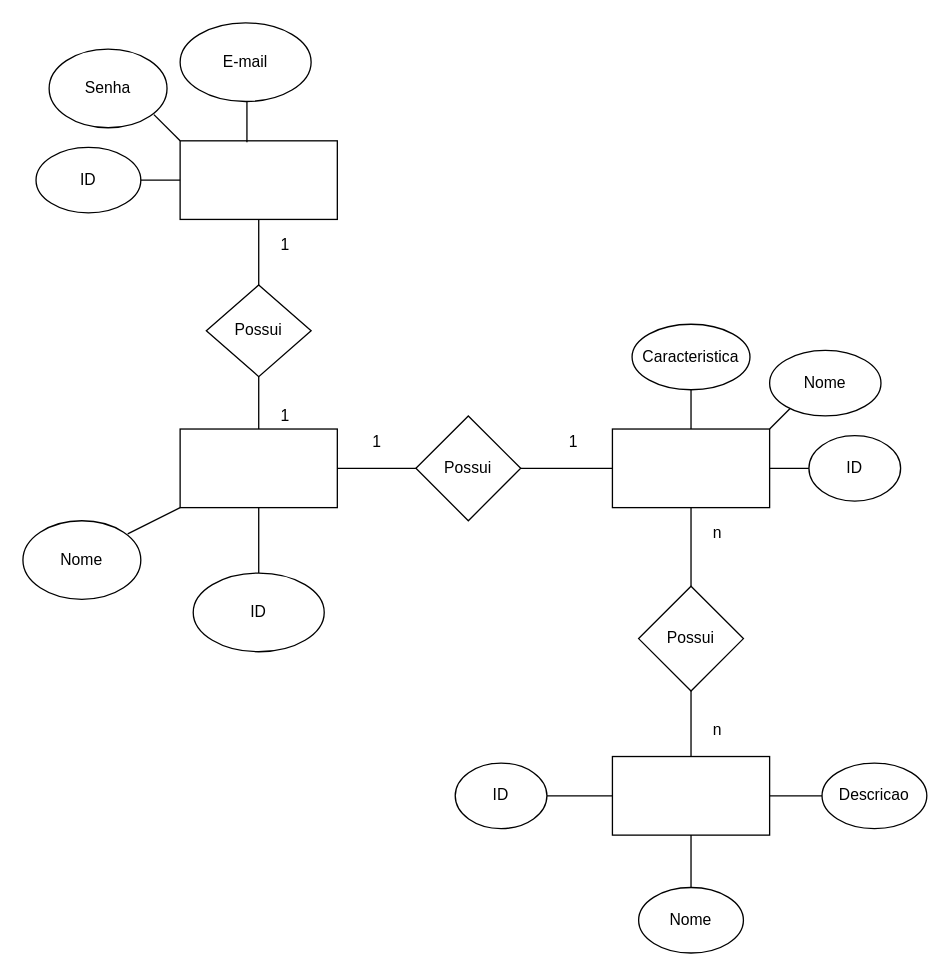
Image size: 950x976. Some labels were removed from this diagram. The shapes that lost their labels are listed below. From the top down, each one's centre as x and y in pixels, then its label:
At point 258,179: "Usuario".
At point 258,468: "Personagem".
At point 690,468: "Classe".
At point 690,795: "Habilidades".
